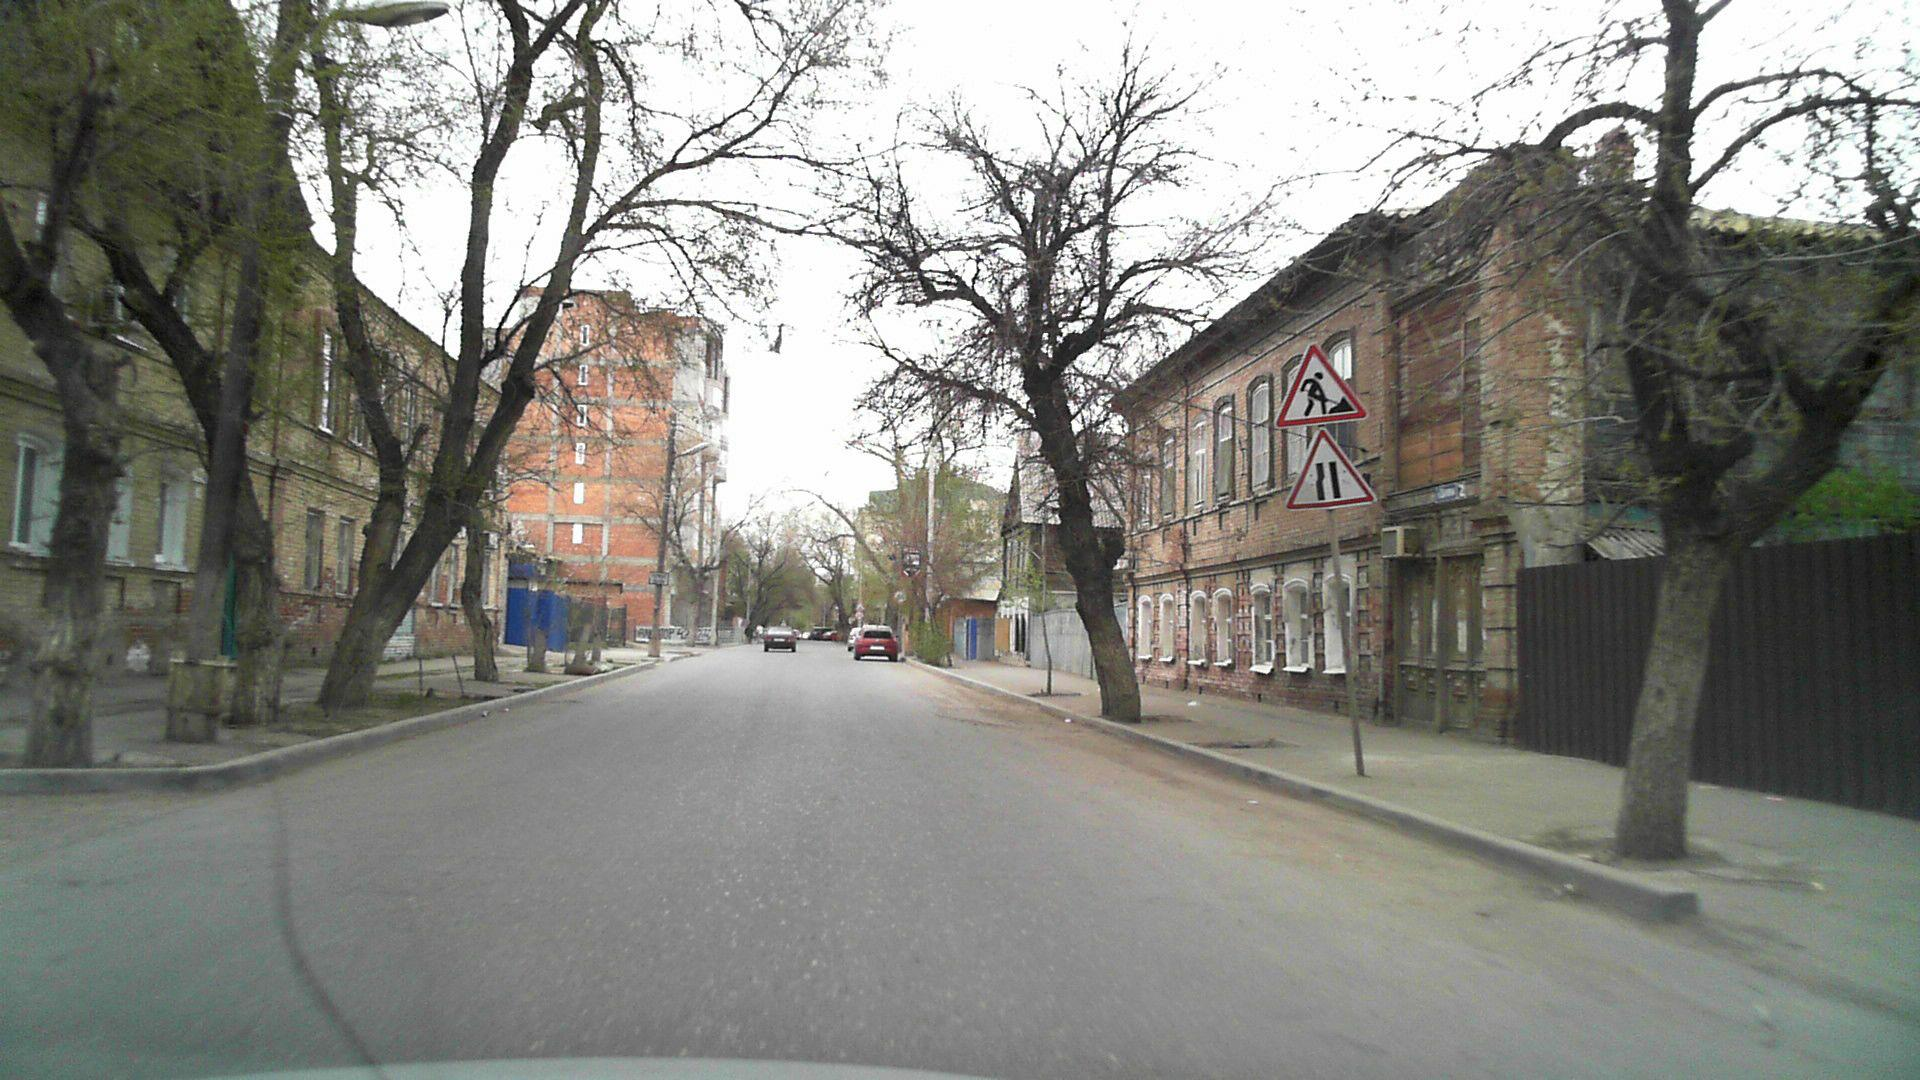1_17: (855, 601, 865, 612)
1_20_3: (1274, 429, 1375, 510)
1_25: (1274, 342, 1367, 426)
3_24: (893, 592, 907, 605), (856, 612, 864, 620)
